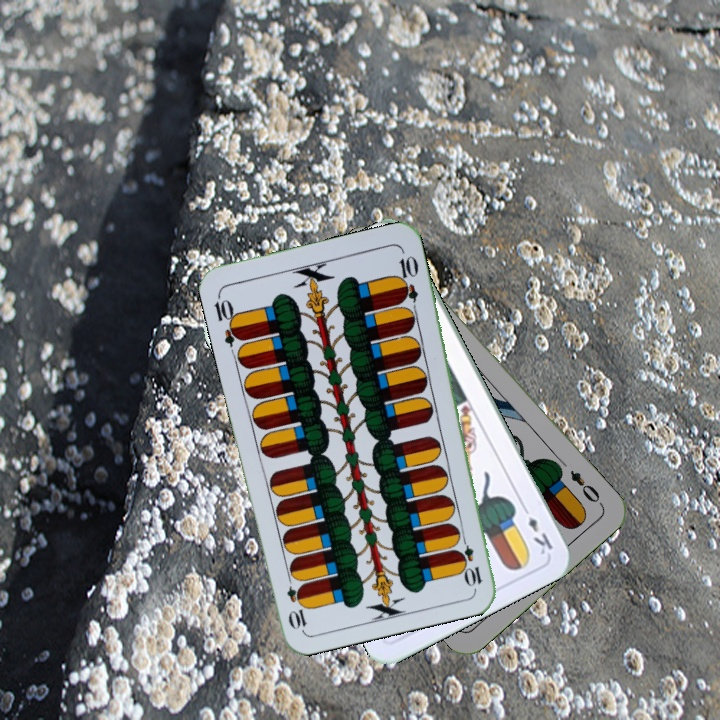E10: (210, 290, 245, 349), (455, 530, 485, 589)
EK: (517, 500, 555, 558)
EO: (566, 466, 606, 508)
